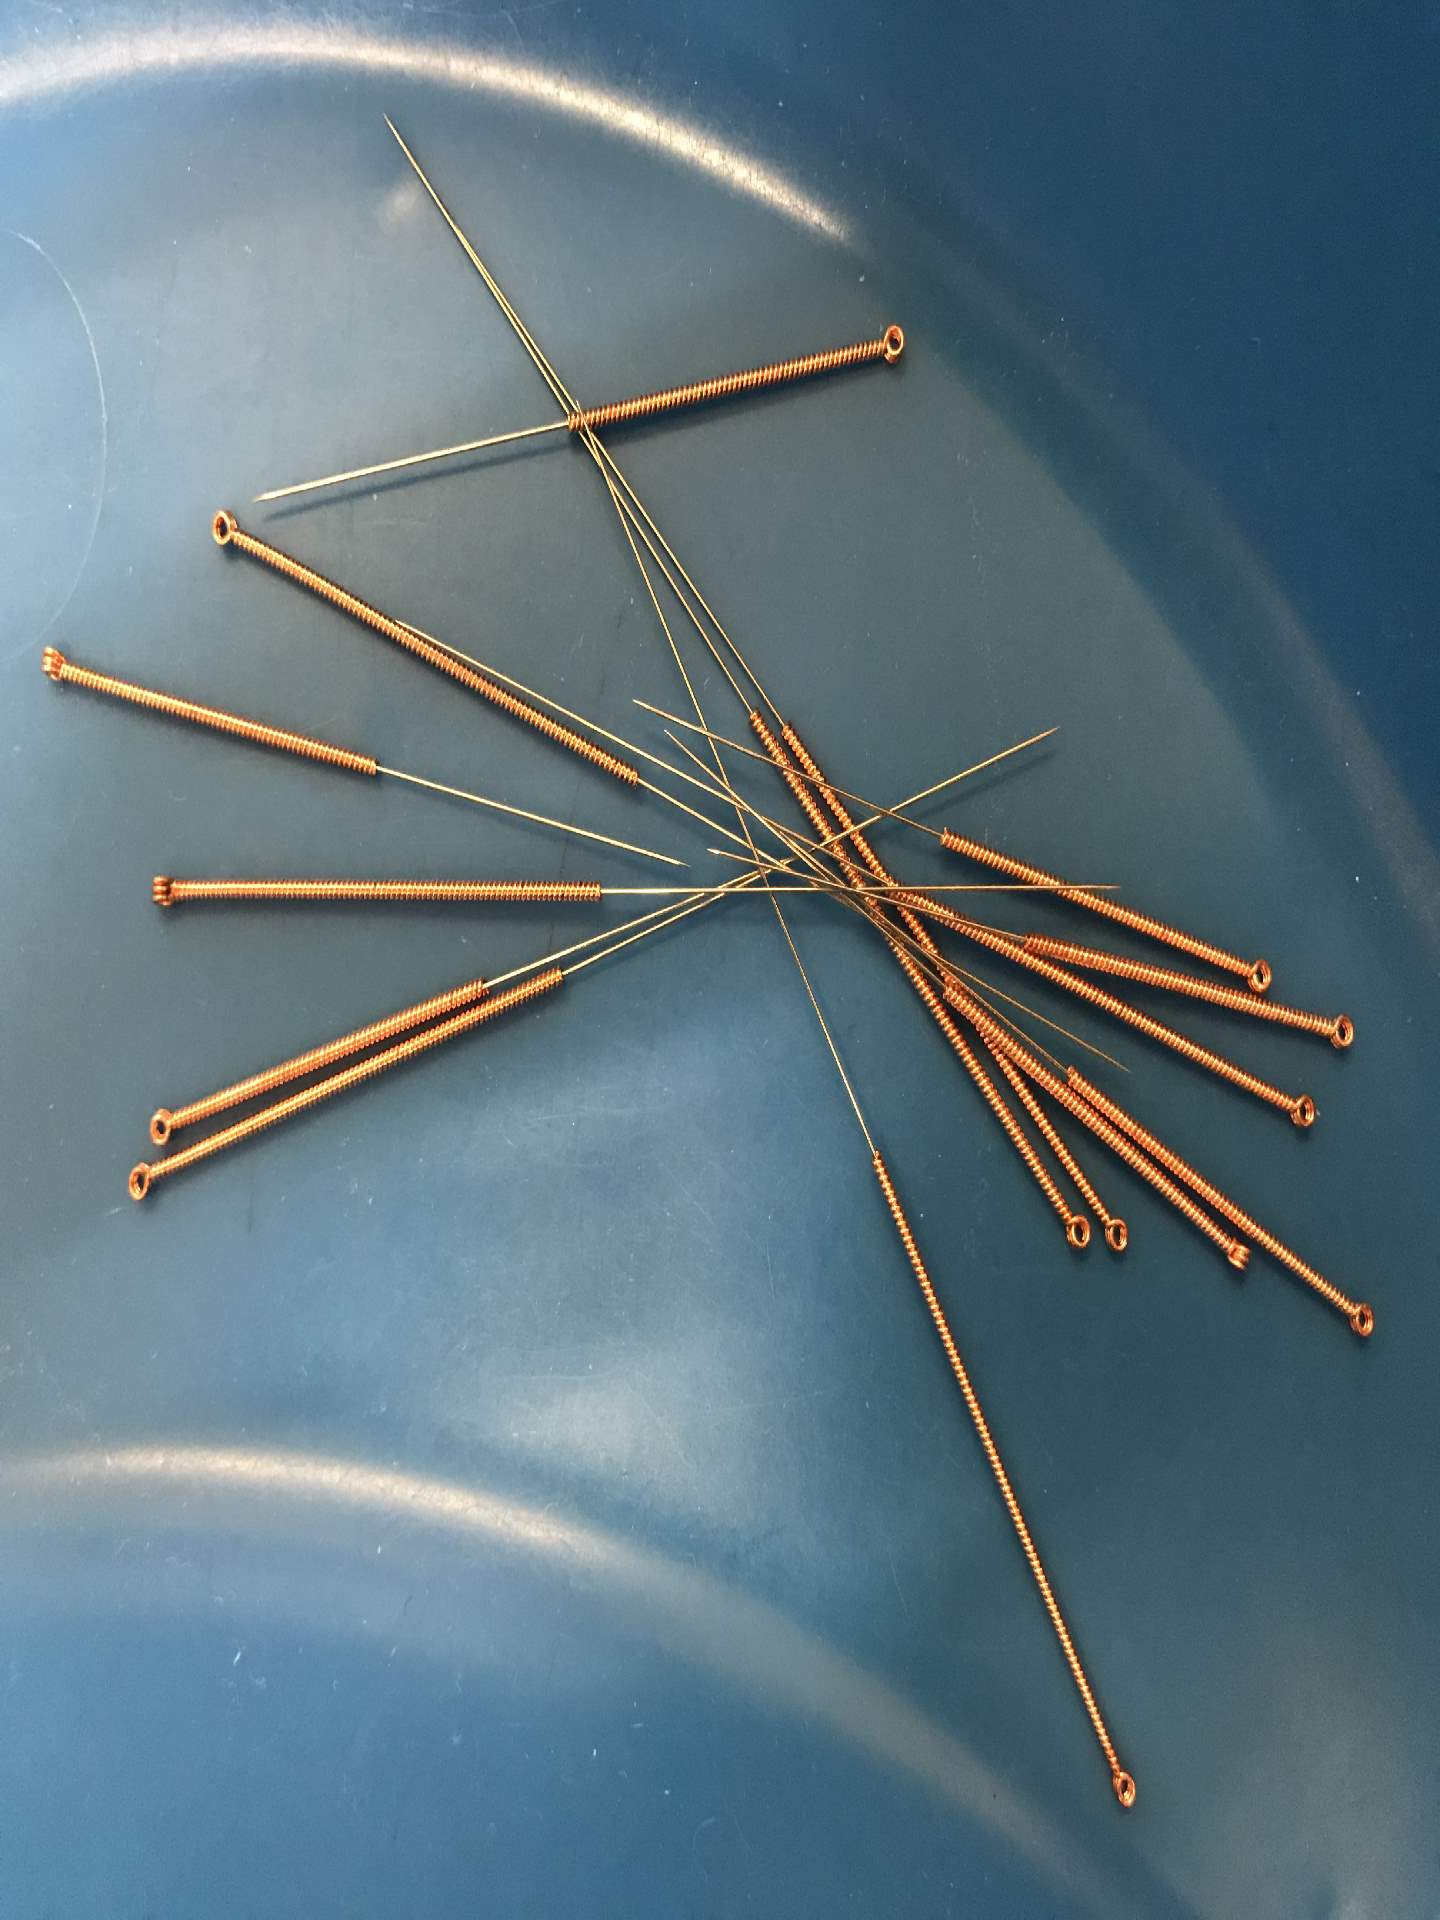needle: (849, 305, 921, 379), (1302, 990, 1370, 1067), (1089, 1748, 1154, 1825), (24, 630, 88, 701), (1330, 1285, 1392, 1355), (1272, 1076, 1330, 1146), (1091, 1194, 1144, 1268), (197, 496, 256, 559), (110, 1150, 165, 1215), (1038, 1200, 1097, 1259), (132, 863, 192, 921), (132, 1098, 191, 1155), (1227, 940, 1284, 996), (1210, 1234, 1258, 1287)
